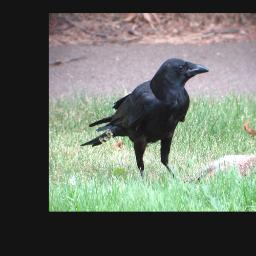Crow: (80, 57, 211, 182)
